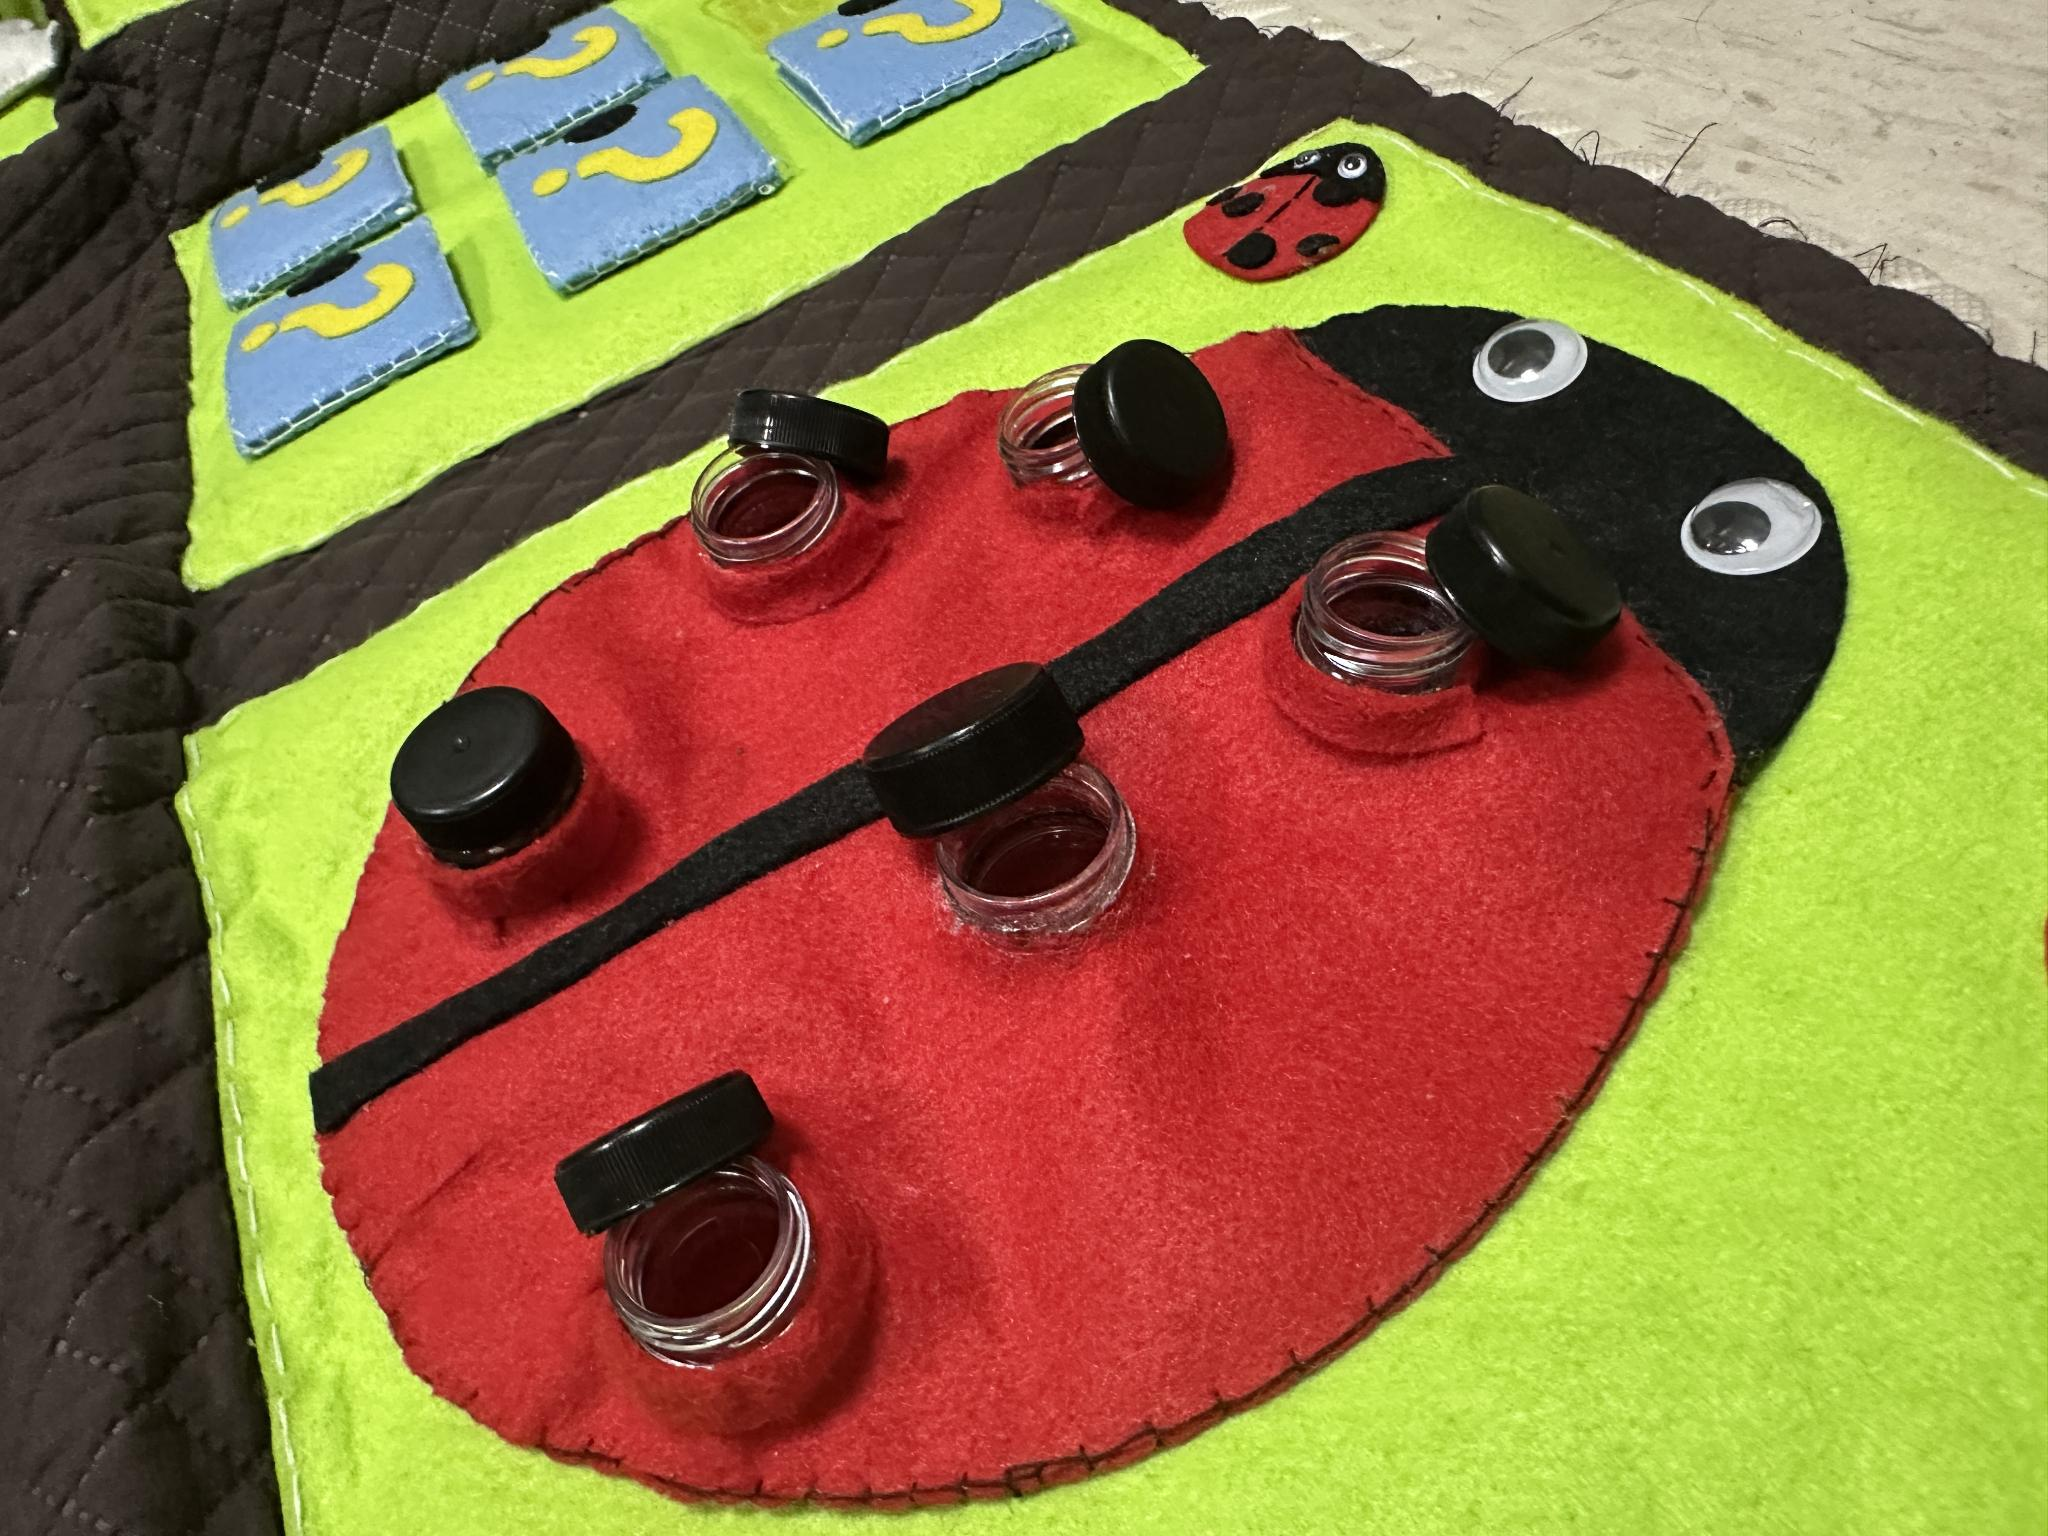cap_ng: (543, 1063, 890, 1447), (848, 645, 1168, 970), (1293, 476, 1627, 760), (971, 321, 1245, 532), (679, 374, 910, 600)
cap_ok: (384, 681, 631, 925)
